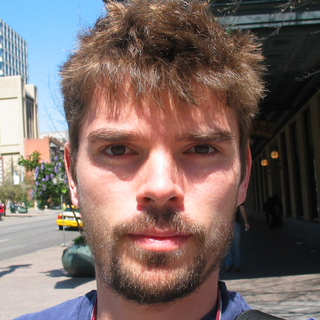eye: (94, 140, 141, 164), (181, 139, 226, 163)
